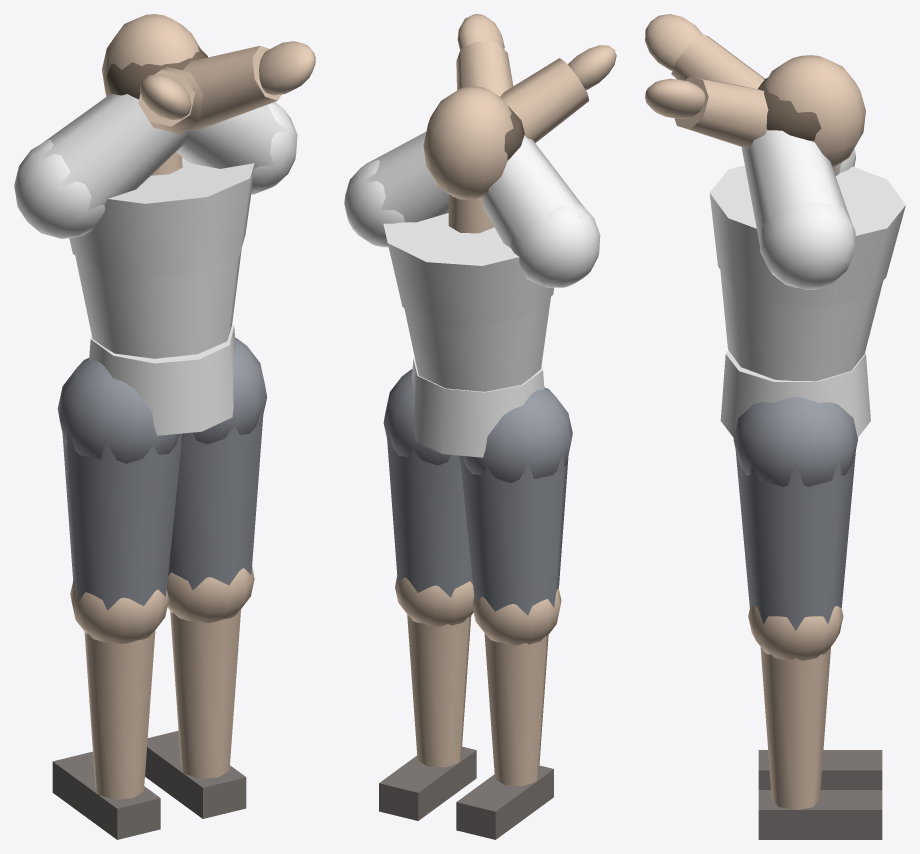
File: crowd_a_stand.glb
3 views of the same model, side by side, from view 1: azimuth 30°, elevation 25°; view 2: azimuth 150°, elevation 25°; view 3: azimuth 270°, elevation 25° (orthographic). The views are drawn at different scales.
Parts seen in each view (by area): view 1: crowd_a_body; view 2: crowd_a_body; view 3: crowd_a_body.
Boxes of the visible parts, box(x1,y1,x2,y2) form: crowd_a_body: box(14, 14, 315, 839); crowd_a_body: box(344, 14, 616, 839); crowd_a_body: box(645, 14, 905, 839).
Size of the model in its own units: 0.6311 by 1.77 by 0.5511.
